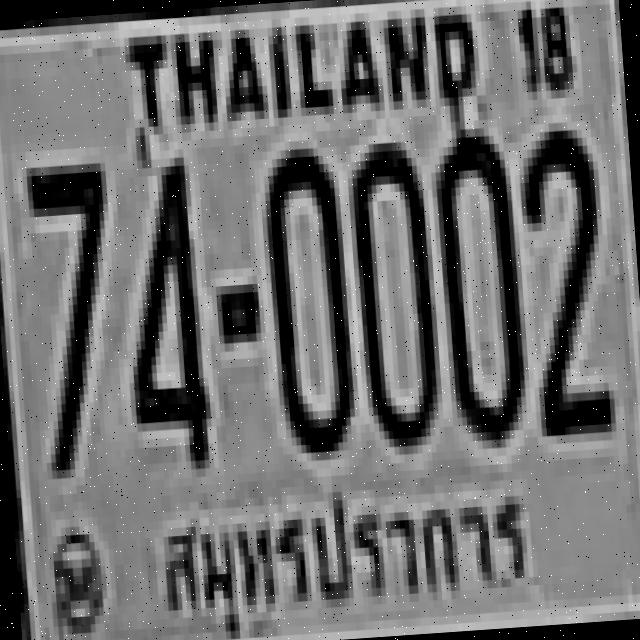0: (262, 142, 358, 458), (348, 140, 443, 448), (434, 136, 528, 444)
2: (518, 120, 614, 436)
4: (116, 153, 212, 470)
7: (20, 154, 121, 472)
SamutPrakan: (148, 474, 537, 640)
